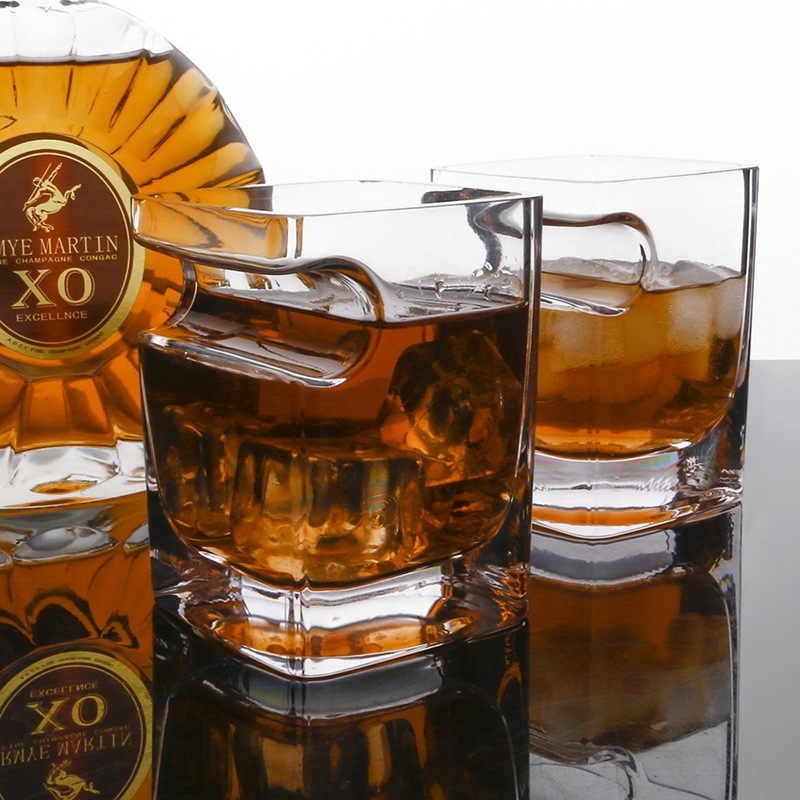whiskey: (121, 176, 542, 676), (447, 158, 765, 577)
